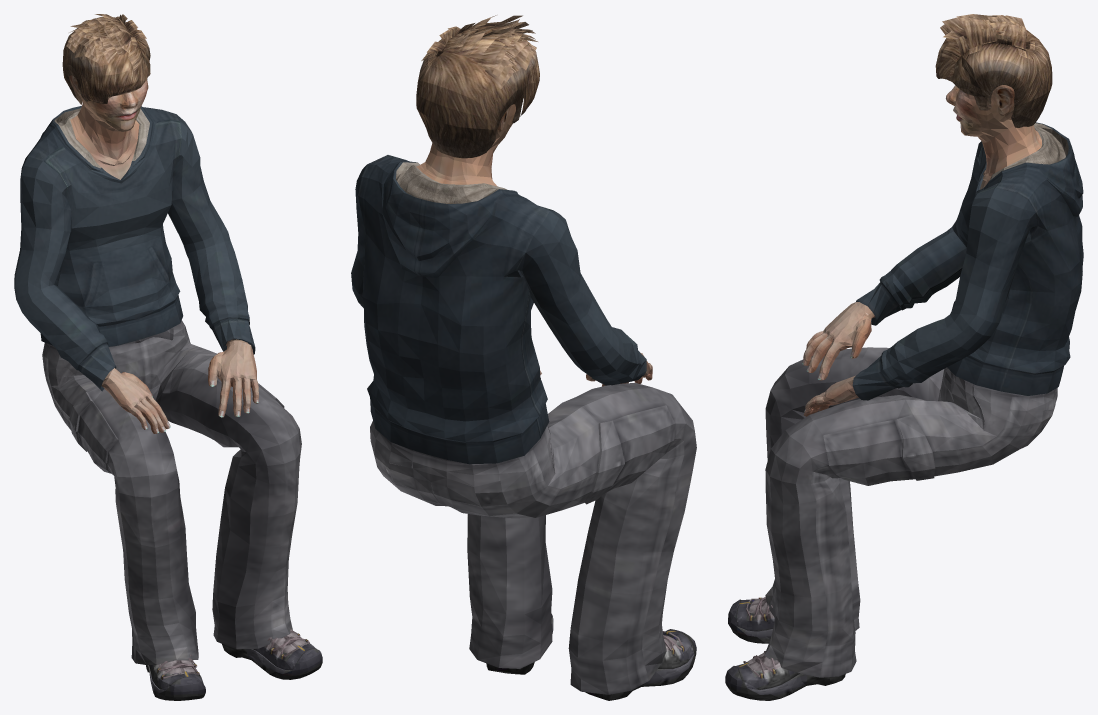
Rendered from sweethome3d-reallusion-sitting-boy.glb.
3 views of the same model, side by side, from view 1: azimuth 30°, elevation 25°; view 2: azimuth 150°, elevation 25°; view 3: azimuth 270°, elevation 25° (orthographic). The views are drawn at different scales.
Visible parts, largest first — view 1: RL_Lower.001, RL_Upper.001, RL_HairMesh.001, RL_Hands.001, RL_Shoes.001, RL_Face.001; view 2: RL_Upper.001, RL_Lower.001, RL_HairMesh.001, RL_Shoes.001; view 3: RL_Lower.001, RL_Upper.001, RL_HairMesh.001, RL_Shoes.001, RL_Hands.001, RL_Face.001.
Boxes of the visible parts, left/top/right/bottom form: RL_Lower.001: left=42, top=320, right=301, bottom=664; RL_Upper.001: left=14, top=100, right=255, bottom=391; RL_HairMesh.001: left=62, top=14, right=150, bottom=104; RL_Hands.001: left=105, top=344, right=258, bottom=433; RL_Shoes.001: left=146, top=628, right=322, bottom=700; RL_Face.001: left=69, top=75, right=148, bottom=131; RL_Upper.001: left=351, top=143, right=646, bottom=464; RL_Lower.001: left=370, top=377, right=696, bottom=694; RL_HairMesh.001: left=416, top=15, right=539, bottom=158; RL_Shoes.001: left=486, top=613, right=696, bottom=700; RL_Lower.001: left=764, top=347, right=1057, bottom=677; RL_Upper.001: left=852, top=122, right=1083, bottom=400; RL_HairMesh.001: left=935, top=14, right=1052, bottom=127; RL_Shoes.001: left=725, top=597, right=845, bottom=700; RL_Hands.001: left=802, top=304, right=871, bottom=416; RL_Face.001: left=945, top=45, right=1014, bottom=142.
Size of the model in its own units: 48.95 by 131 by 66.98.
Materials: 11 (11 with a texture image).
